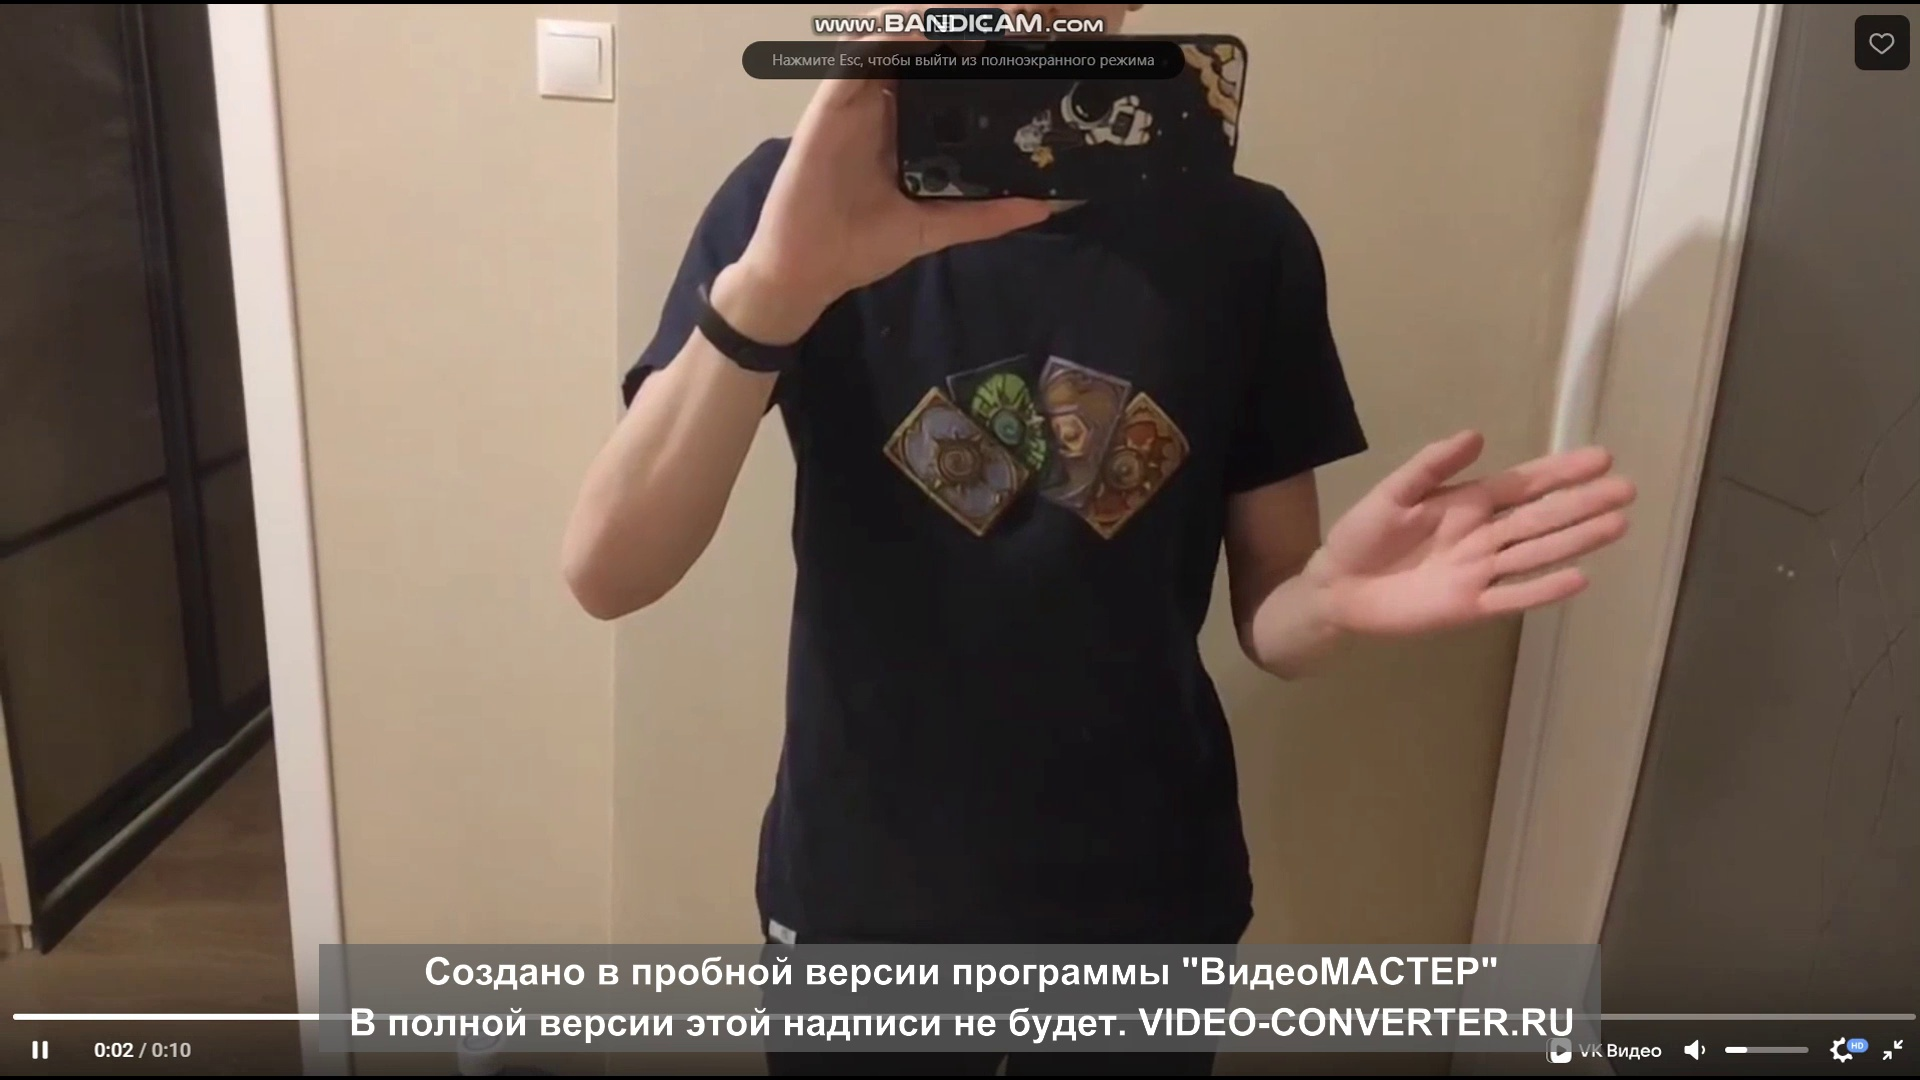Ладонь: (1324, 431, 1636, 636)
